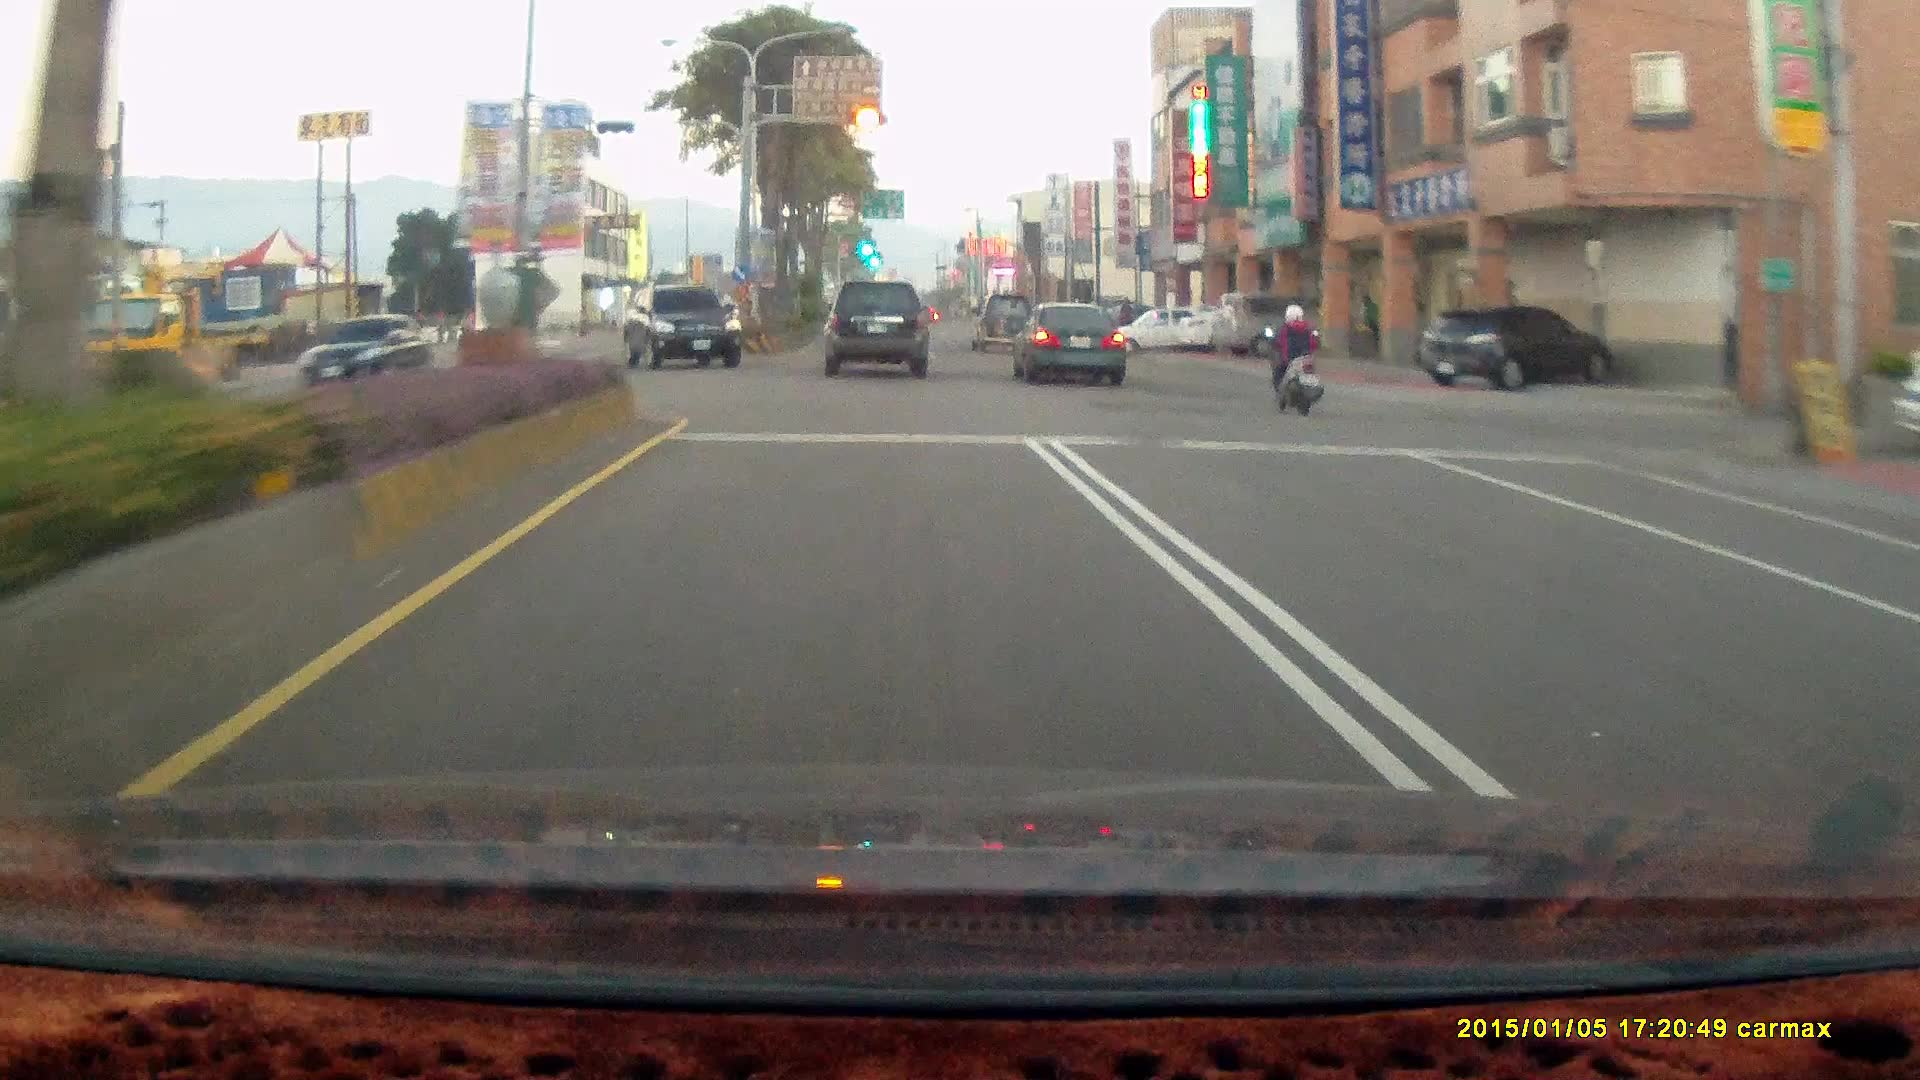pedestrian: (1356, 292, 1381, 358)
rider: (1254, 293, 1336, 425), (1268, 300, 1328, 412)
vehicle: (76, 283, 274, 396), (1419, 301, 1615, 389), (1423, 303, 1624, 388), (292, 310, 434, 391), (297, 309, 428, 389), (823, 281, 931, 378), (822, 280, 929, 377), (620, 284, 741, 365), (625, 284, 746, 365), (1008, 298, 1125, 383), (1010, 302, 1128, 383), (1210, 288, 1343, 356), (1209, 289, 1329, 360), (1117, 300, 1228, 356), (1110, 303, 1224, 353), (969, 289, 1037, 351), (1892, 374, 1920, 437)
